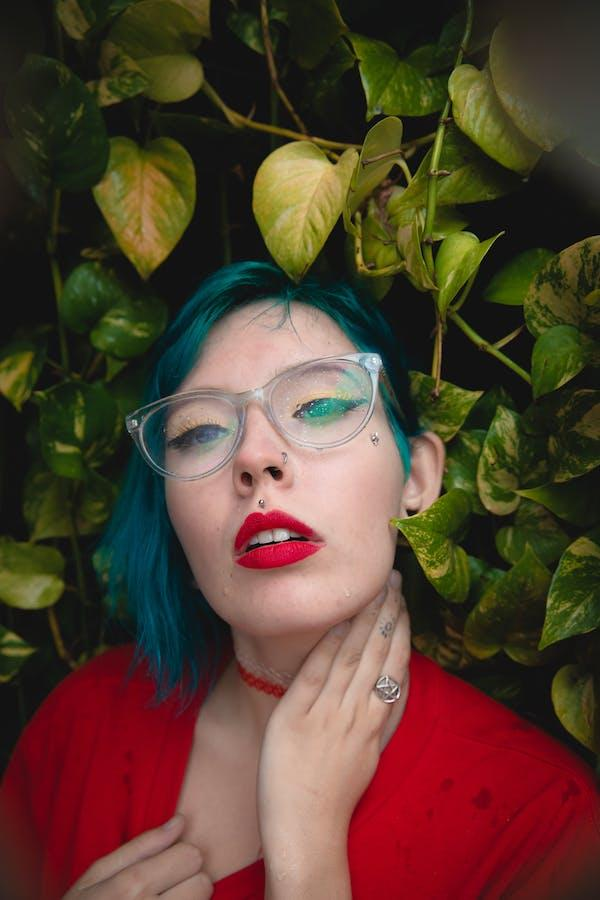eyeglasses: (123, 343, 398, 490)
